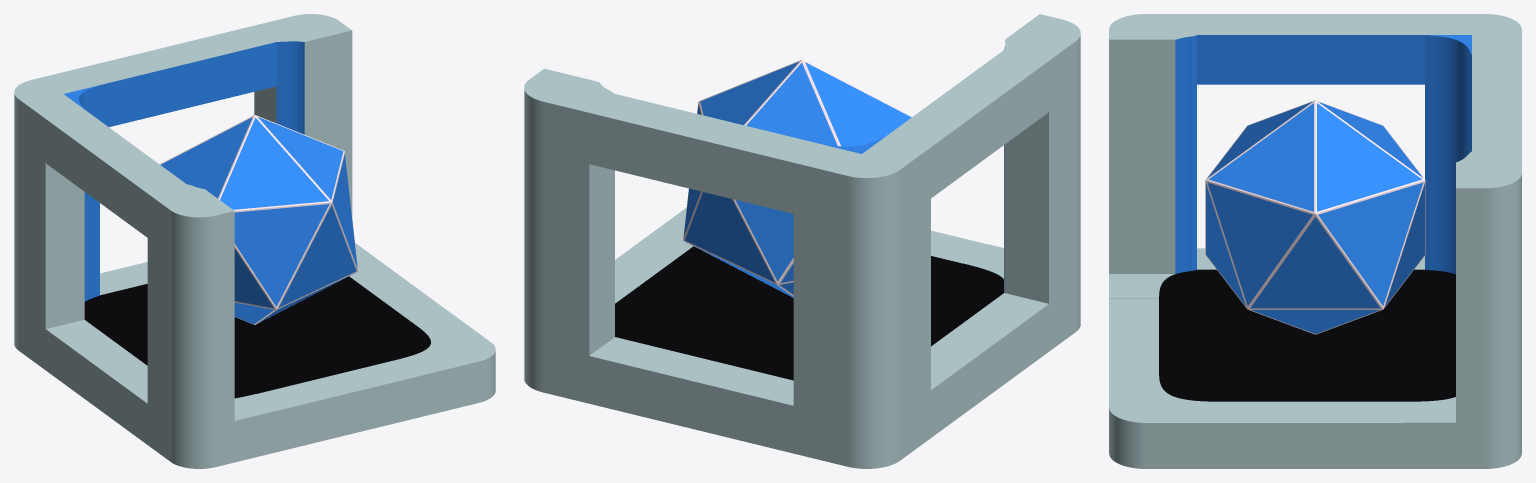
The model's file is nuppgin7.glb.
The picture shows the model from 3 angles, left to right: view 1: azimuth 30°, elevation 25°; view 2: azimuth 150°, elevation 25°; view 3: azimuth 270°, elevation 25°; orthographic projection. The views are drawn at different scales.
Visible parts, largest first — view 1: Cube.004, Icosphere.002; view 2: Cube.004, Icosphere.002; view 3: Cube.004, Icosphere.002.
Boxes of the visible parts, x1,y1,x2,y2 form: Cube.004: (14,14,495,468); Icosphere.002: (160,115,358,324); Cube.004: (524,14,1080,468); Icosphere.002: (683,59,912,297); Cube.004: (1109,14,1521,468); Icosphere.002: (1205,100,1425,334).
Bounding box in the file's own units: 13.8 × 10.39 × 13.8.
